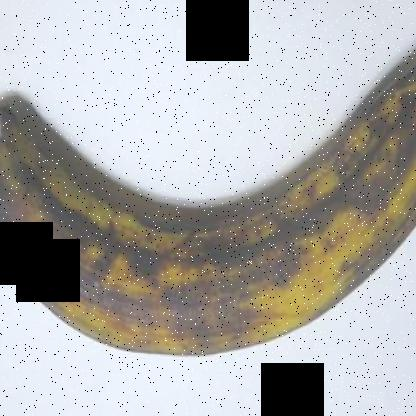overripe: (0, 36, 415, 368)
rotten: (0, 92, 51, 240)
